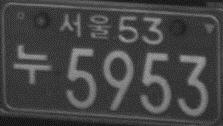3: (176, 53, 209, 117), (141, 15, 163, 45)
5: (138, 51, 171, 115), (65, 47, 97, 110), (118, 15, 139, 43)
9: (101, 48, 134, 110)
누: (12, 44, 52, 85)
서울_O: (58, 12, 110, 39)
